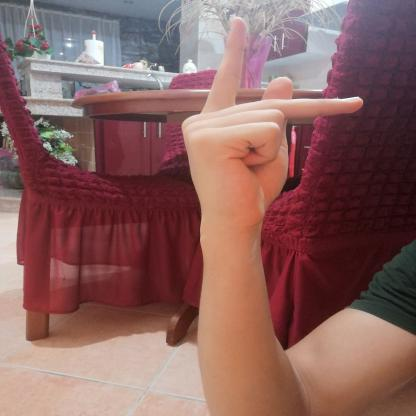DHAA: (169, 6, 380, 242)
